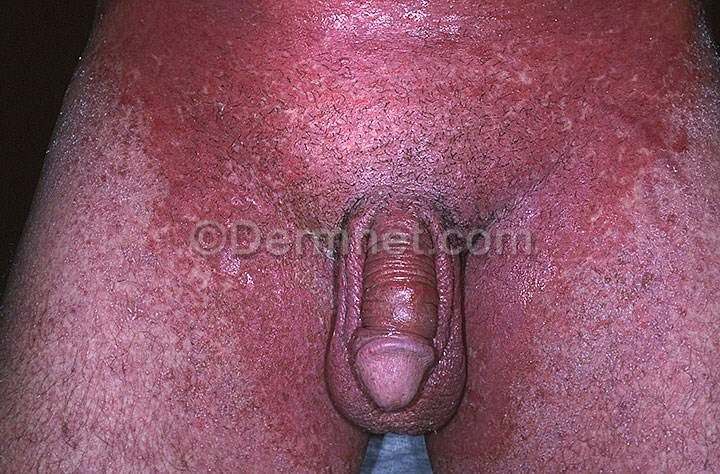Eczema: (100, 7, 265, 115), (468, 6, 612, 124), (285, 8, 442, 104), (413, 123, 547, 223), (214, 131, 374, 201), (628, 8, 698, 116), (346, 259, 438, 320), (225, 258, 311, 323), (573, 144, 640, 214), (484, 263, 559, 319), (269, 343, 325, 416), (481, 337, 527, 398)
